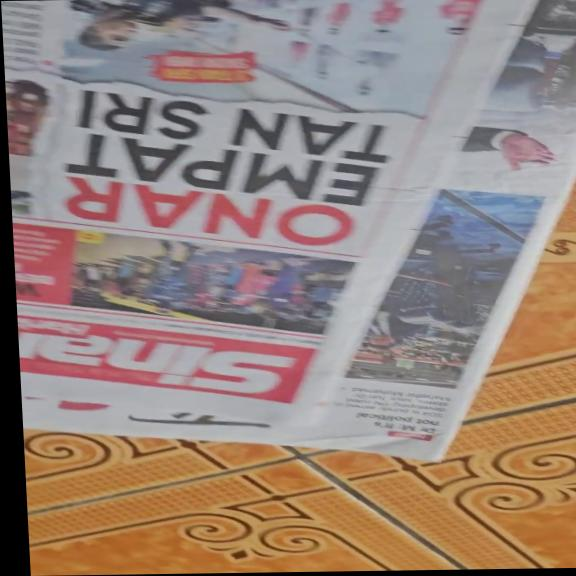Kertas: (5, 0, 576, 470)
